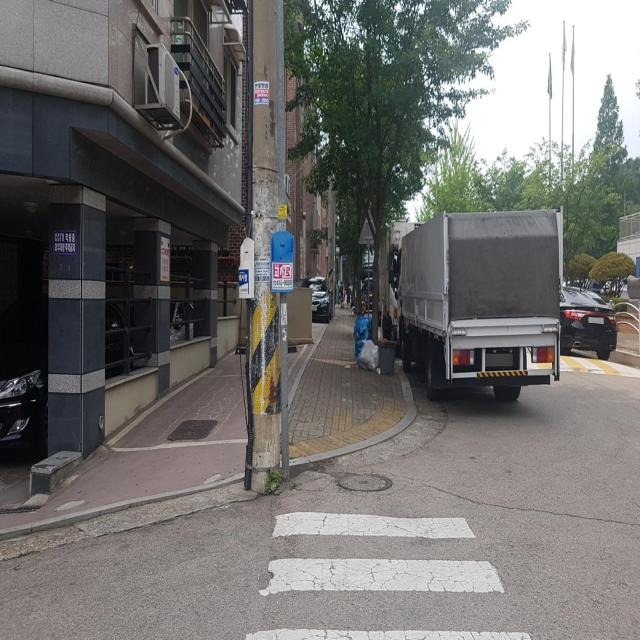횡단보도: (243, 508, 533, 640)
